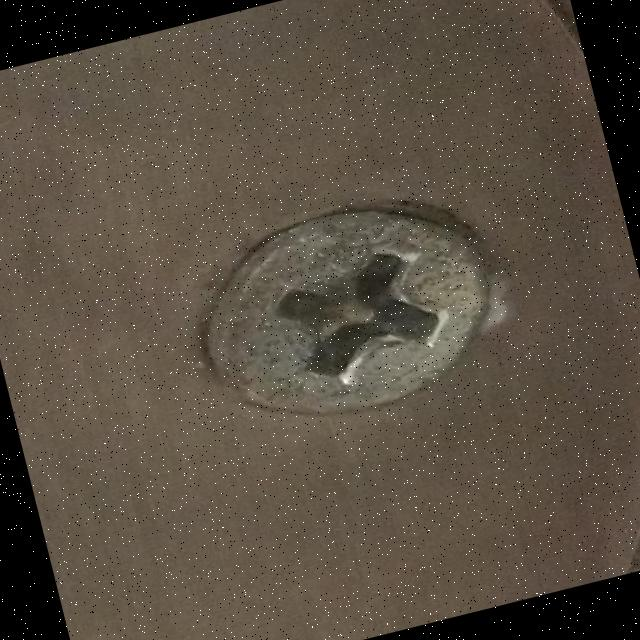Phillips: (231, 185, 502, 426)
